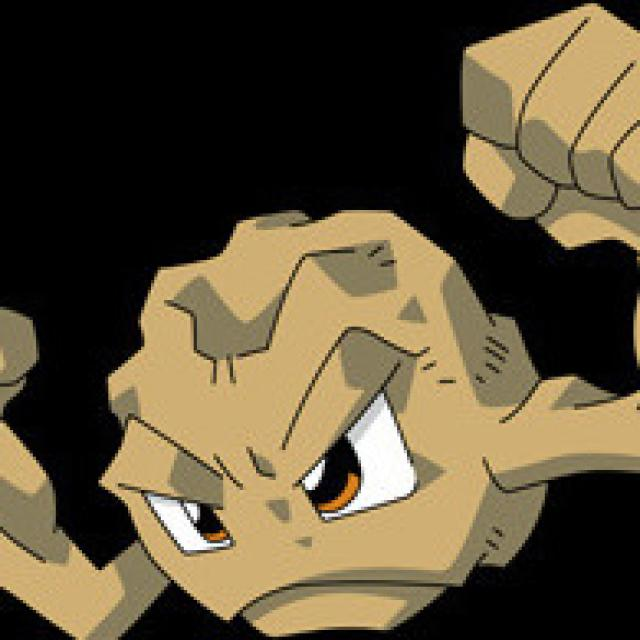Geodude: (7, 209, 632, 640)
